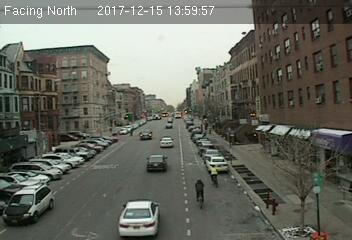bicycle: (194, 178, 205, 208), (206, 165, 220, 186)
car: (2, 184, 55, 222), (118, 198, 161, 236), (144, 154, 167, 170), (158, 136, 173, 147), (139, 129, 153, 139)
